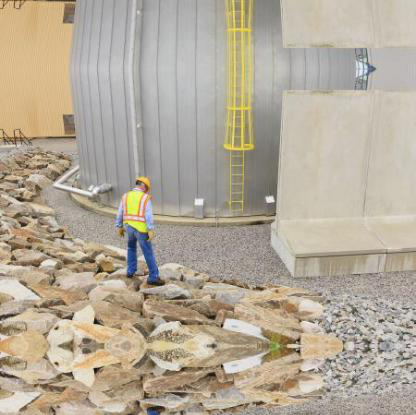helmet: (133, 175, 151, 197)
